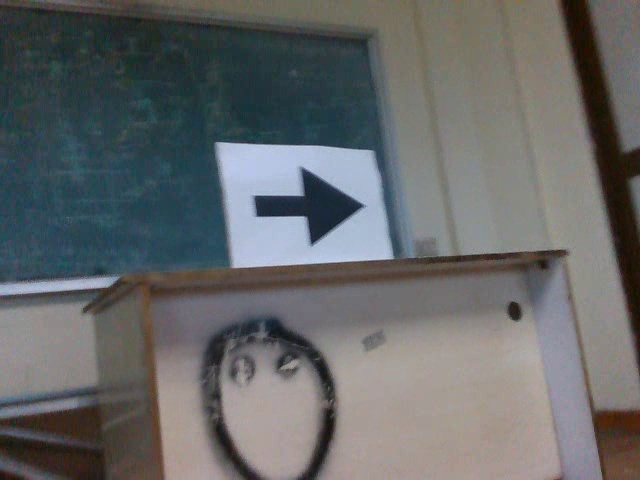Right: (247, 158, 369, 254)
